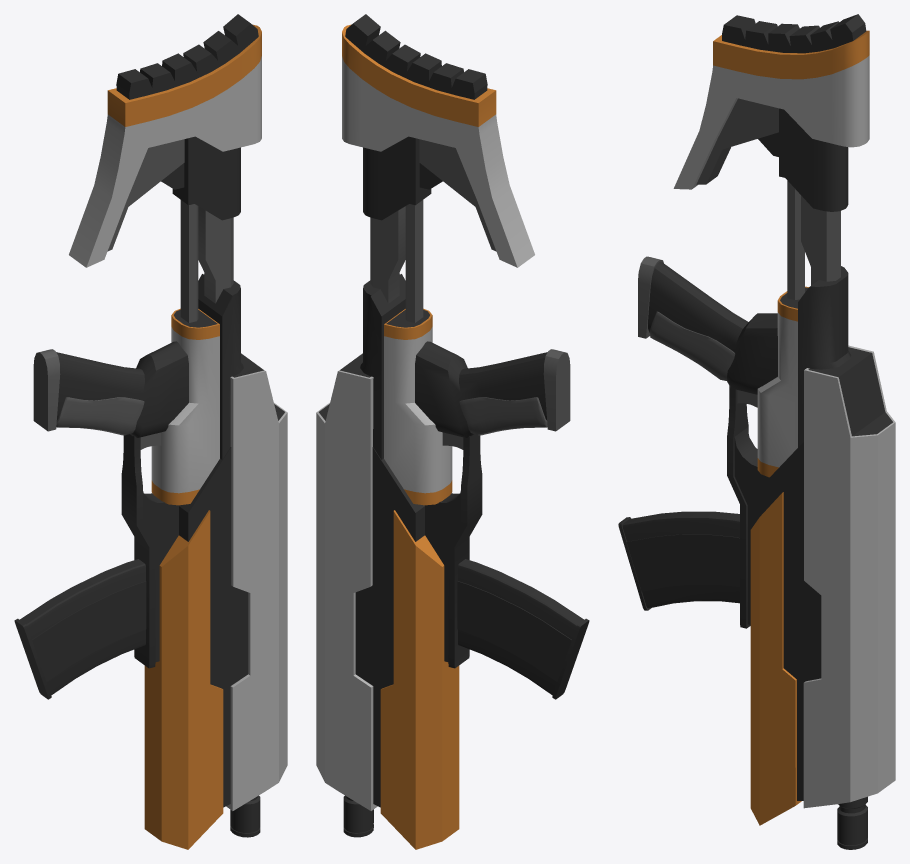
Rendered from qg-smg-2-lod0.glb.
3 views of the same model, side by side, from view 1: azimuth 30°, elevation 25°; view 2: azimuth 150°, elevation 25°; view 3: azimuth 330°, elevation 25° (orthographic).
Visible parts, largest first — view 1: WeaponMesh_qg-smg-2_SMG_2, WeaponMesh_qg-smg-2_Magazine_SMG_2; view 2: WeaponMesh_qg-smg-2_SMG_2, WeaponMesh_qg-smg-2_Magazine_SMG_2; view 3: WeaponMesh_qg-smg-2_SMG_2, WeaponMesh_qg-smg-2_Magazine_SMG_2.
Part boxes in pixels (<box>): WeaponMesh_qg-smg-2_SMG_2: <box>33,14,287,849</box>; WeaponMesh_qg-smg-2_Magazine_SMG_2: <box>14,559,146,699</box>; WeaponMesh_qg-smg-2_SMG_2: <box>316,14,570,849</box>; WeaponMesh_qg-smg-2_Magazine_SMG_2: <box>457,559,589,699</box>; WeaponMesh_qg-smg-2_SMG_2: <box>638,14,895,849</box>; WeaponMesh_qg-smg-2_Magazine_SMG_2: <box>618,511,739,610</box>.
Bounding box in the file's own units: 0.2613 × 0.78 × 0.0624.
